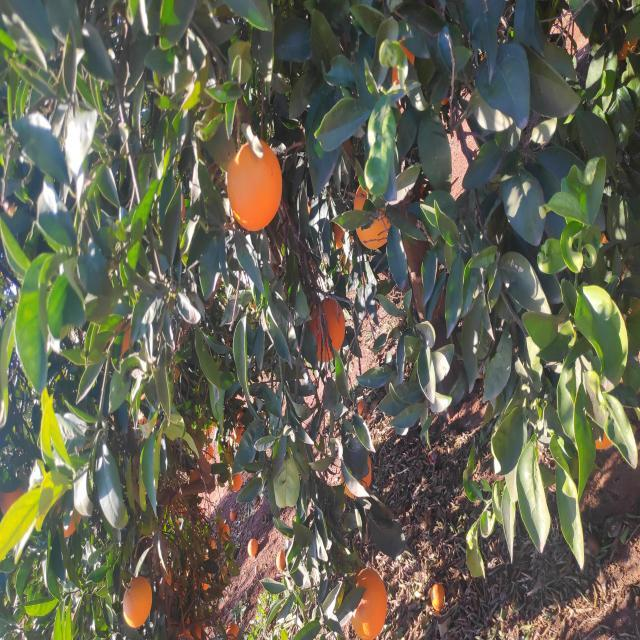Jeruk Sudah Matang: (410, 228, 500, 282), (0, 350, 72, 387), (277, 306, 343, 346), (391, 353, 456, 390), (12, 124, 64, 152), (142, 342, 187, 372), (391, 334, 416, 344), (0, 226, 18, 238), (69, 276, 90, 285), (150, 232, 167, 243), (84, 248, 102, 258), (223, 358, 240, 368), (101, 222, 117, 230), (119, 230, 132, 237), (182, 206, 194, 213), (90, 210, 100, 216)
